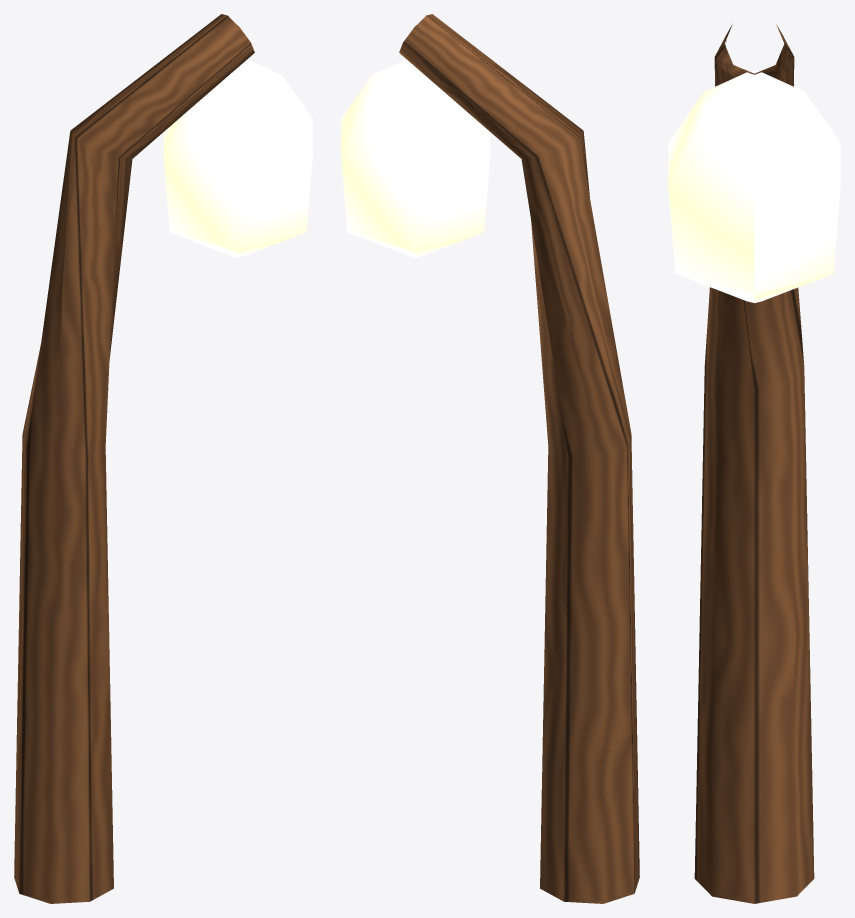
Rendered from lantern.glb.
The picture shows the model from 3 angles, left to right: view 1: azimuth 30°, elevation 25°; view 2: azimuth 150°, elevation 25°; view 3: azimuth 270°, elevation 25°; orthographic projection. The views are drawn at different scales.
Visible parts, largest first — view 1: lantern; view 2: lantern; view 3: lantern.
Boxes of the visible parts, left/top/right/bottom form: lantern: left=14, top=14, right=312, bottom=903; lantern: left=341, top=14, right=639, bottom=903; lantern: left=668, top=24, right=840, bottom=903.
Size of the model in its own units: 23.6 by 63.58 by 10.39.
2 materials, 1 textured.
